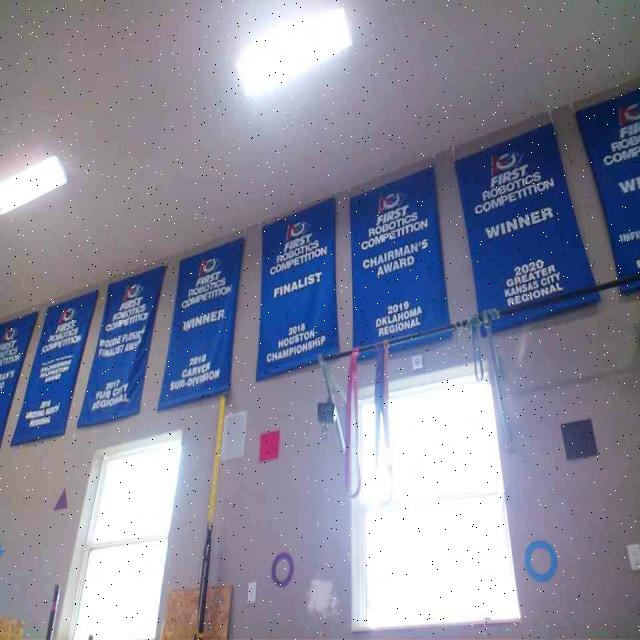ring_blue: (524, 538, 557, 580)
ring_purple: (272, 551, 293, 587)
square_black: (560, 417, 598, 459)
square_red: (258, 430, 280, 460)
triangle_purple: (53, 488, 69, 509)
